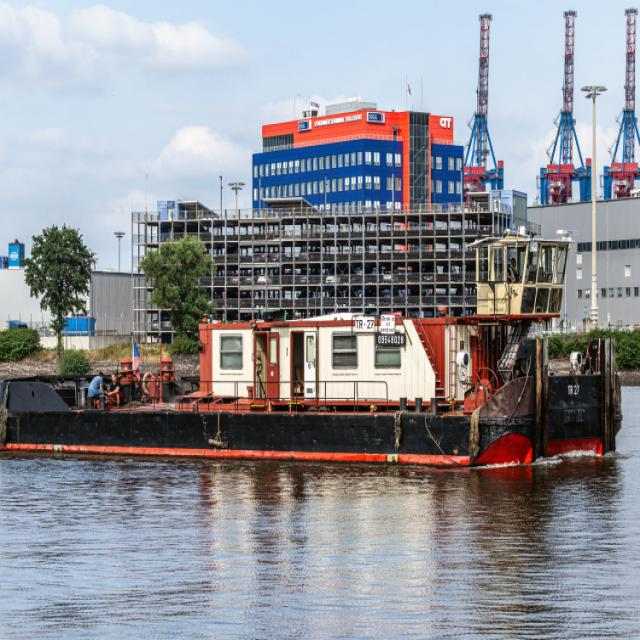tugboat: (1, 224, 628, 479)
